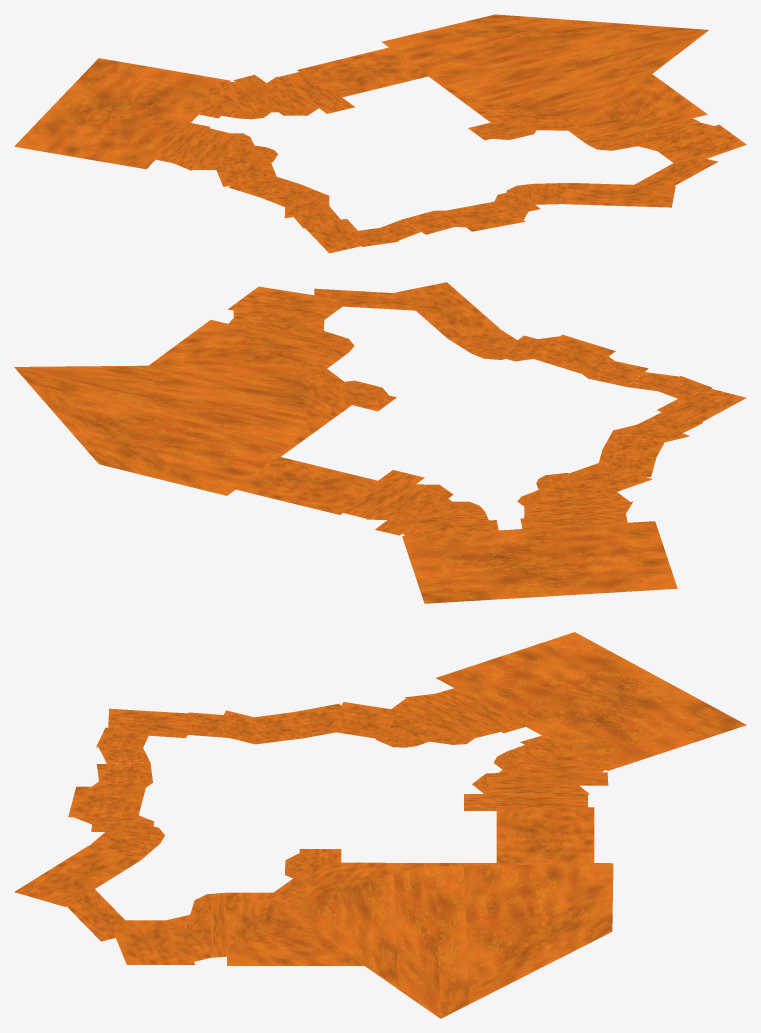
The model's file is LV2Nav.fbx.
3 renders of one model, top to bottom at view 1: azimuth 30°, elevation 25°; view 2: azimuth 150°, elevation 25°; view 3: azimuth 270°, elevation 25°, orthographic. The views are drawn at different scales.
Parts seen in each view (by area): view 1: polySurface603; view 2: polySurface603; view 3: polySurface603.
Boxes of the visible parts, bbox=[...] form: polySurface603: bbox=[14, 14, 746, 253]; polySurface603: bbox=[14, 282, 746, 603]; polySurface603: bbox=[14, 632, 746, 1018].
Size of the model in its own units: 712 by 0 by 570.
